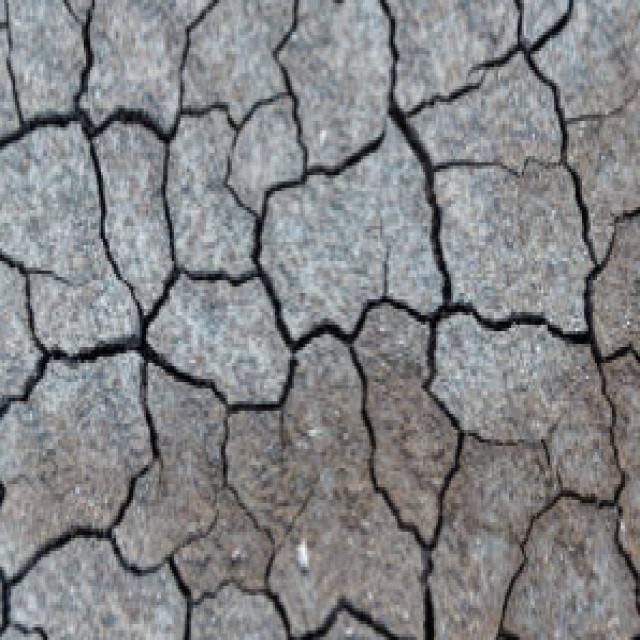network cracks: (0, 0, 639, 639)
